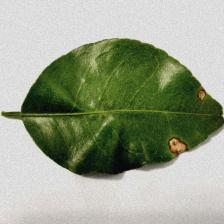canker: (165, 86, 216, 160)
